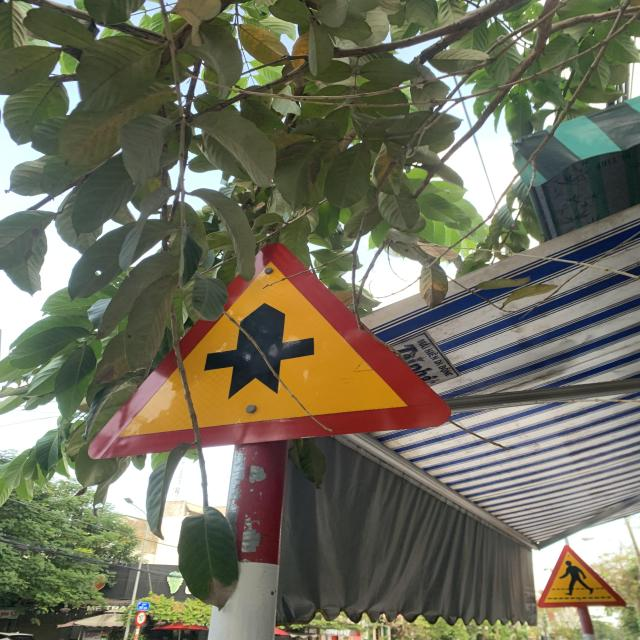Duong_Nguoi_Di_Bo_Sang_Ngang: (538, 538, 628, 608)
